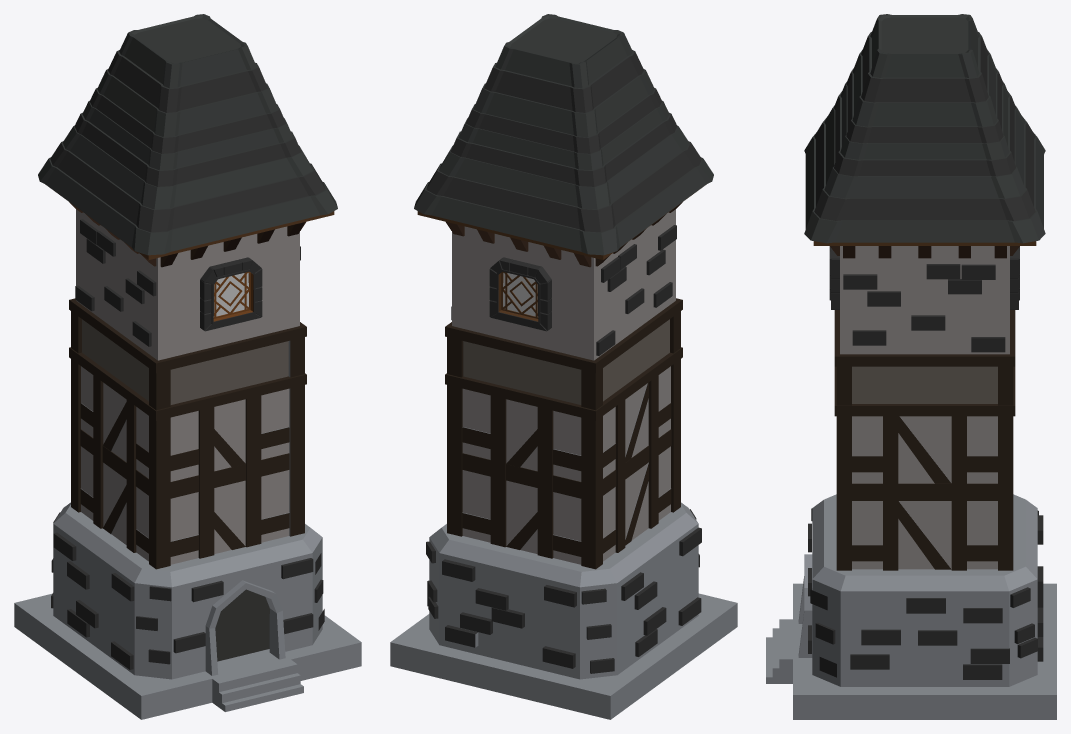
File: SM_Hous_18_B.gltf
3 views of the same model, side by side, from view 1: azimuth 30°, elevation 25°; view 2: azimuth 150°, elevation 25°; view 3: azimuth 270°, elevation 25° (orthographic). The views are drawn at different scales.
Parts seen in each view (by area): view 1: SM_Hous_18_B; view 2: SM_Hous_18_B; view 3: SM_Hous_18_B.
Boxes of the visible parts, box(x1,y1,x2,y2) form: SM_Hous_18_B: box(14, 14, 361, 719); SM_Hous_18_B: box(390, 14, 737, 719); SM_Hous_18_B: box(766, 14, 1056, 719).
Bounding box in the file's own units: 6.23 × 16.39 × 6.86.
